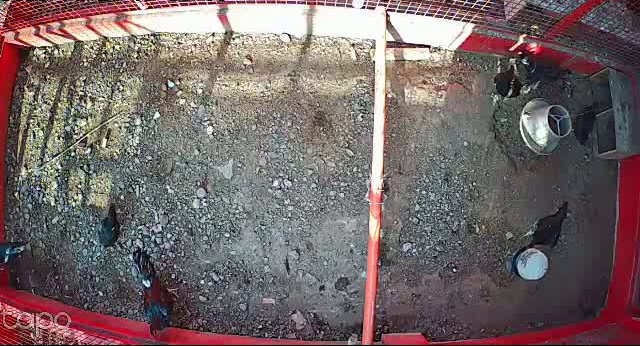Chicken: (520, 198, 571, 252), (490, 64, 529, 104), (93, 204, 124, 249), (571, 102, 597, 147)
Drinker: (511, 247, 550, 281)
Feeder: (517, 96, 573, 159)
Rooster: (125, 248, 182, 346)
